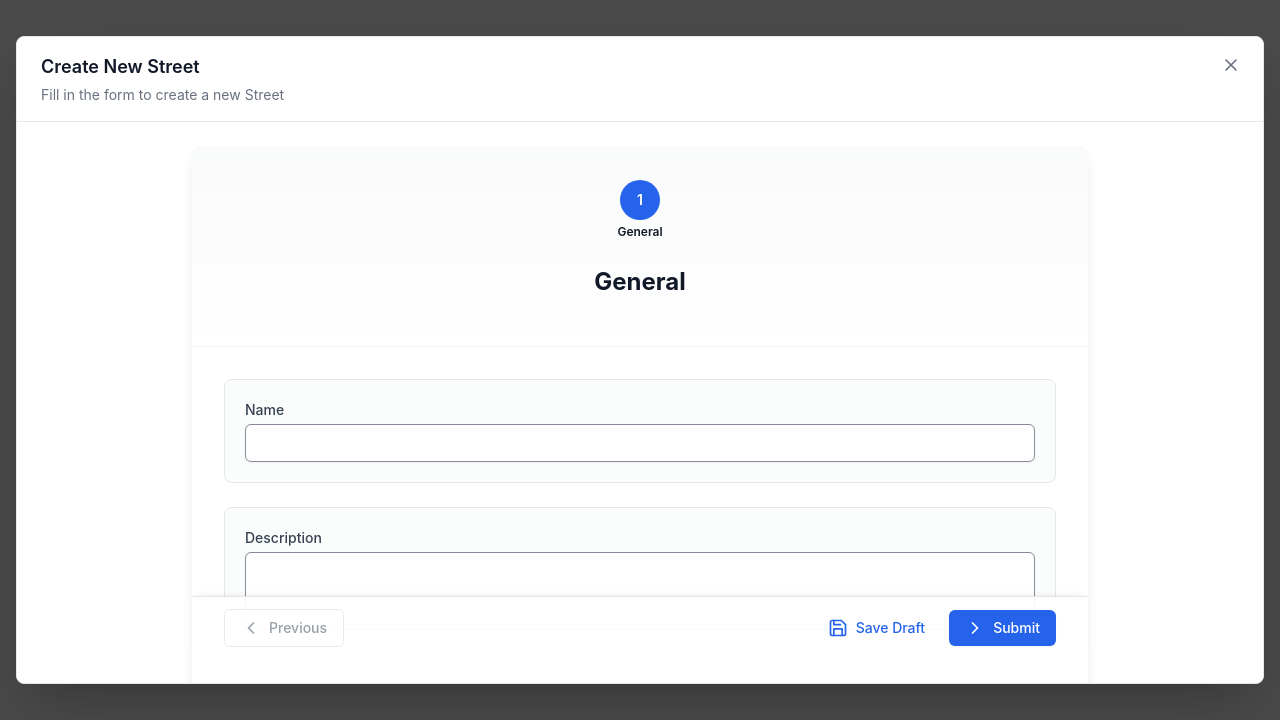
Test: ChildFormModal asks before closing a child form with unsaved changes (LW2-2) › Escape on the question answers Stay (only the topmost dialog reacts)
Type "Main street" into the field labelled "Name" at point(640, 443), box [245,424,1035,462]
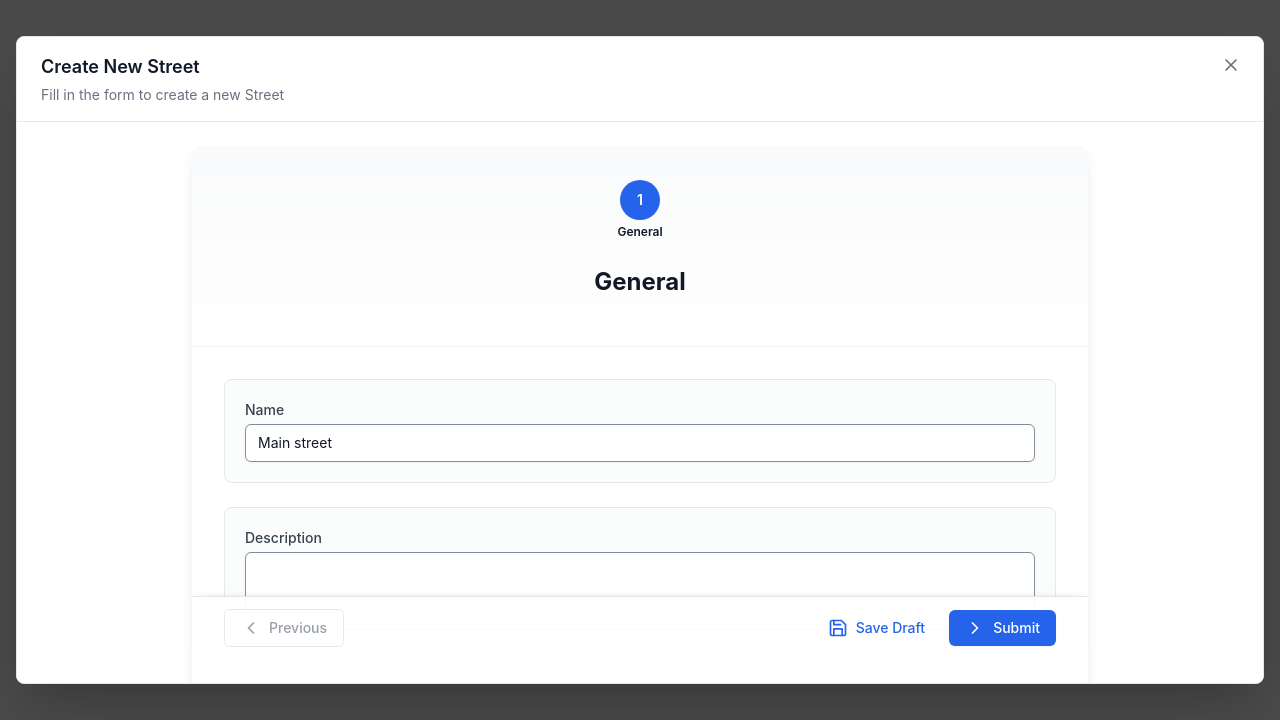
Press Escape in the dialog
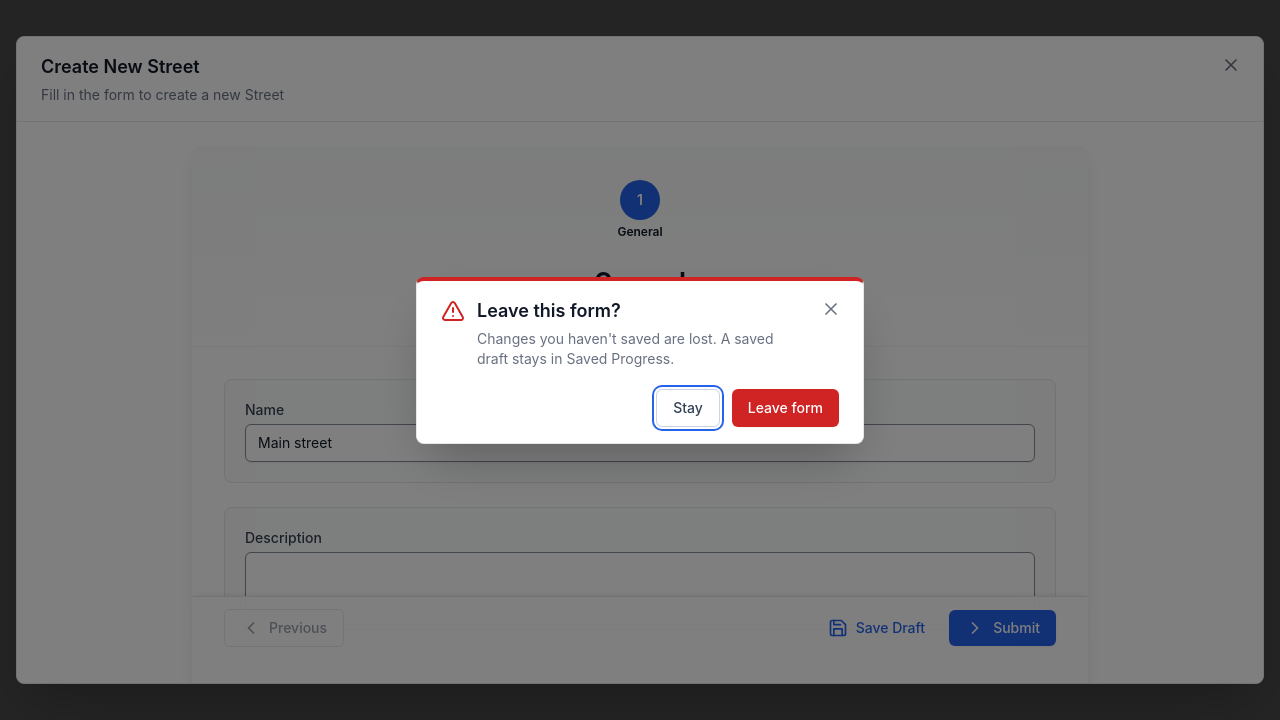
expect the dialog "Leave this form?" is shown: met, box [416,276,864,444]
Press Escape in the button "Stay", box [656,388,720,426]
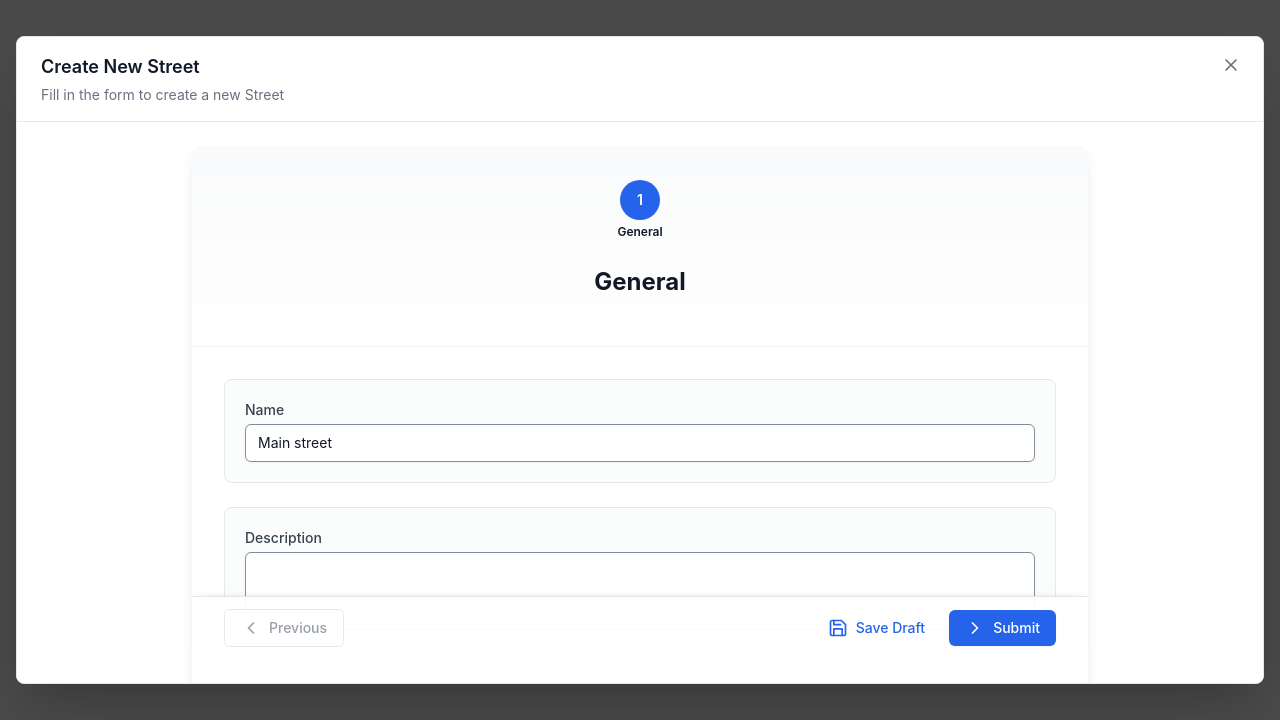
expect the heading "Leave this form?" is gone: met
